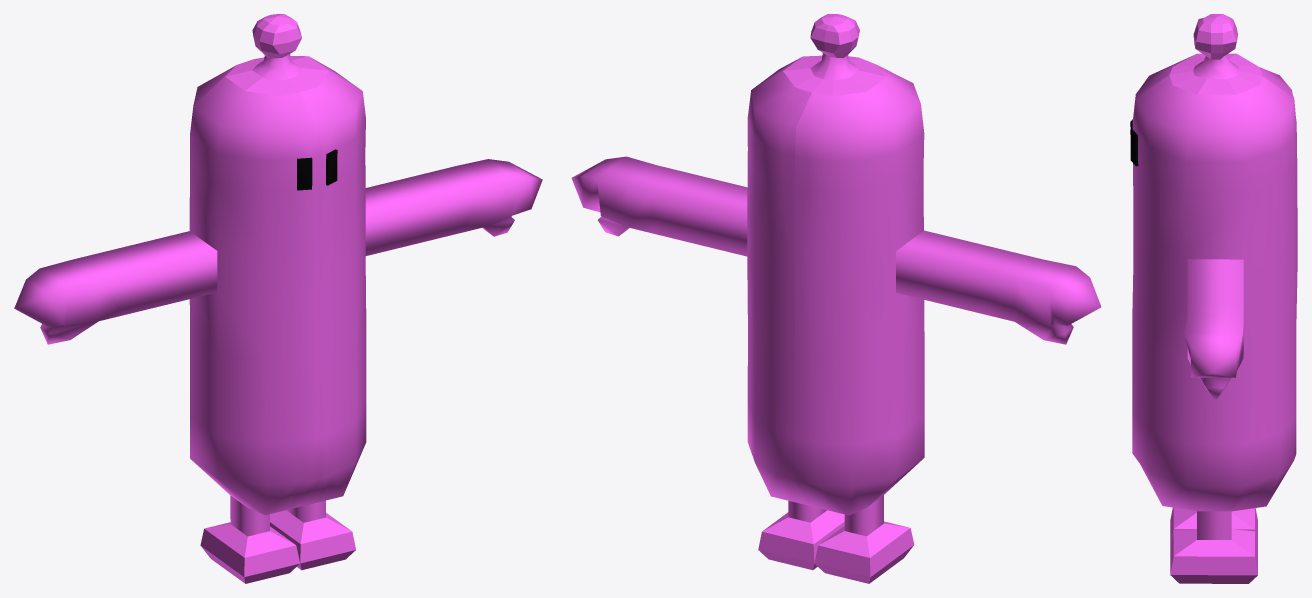
Rendered from Personagem_1_semturbo.FBX.
The picture shows the model from 3 angles, left to right: view 1: azimuth 30°, elevation 25°; view 2: azimuth 150°, elevation 25°; view 3: azimuth 270°, elevation 25°; orthographic projection.
Parts seen in each view (by area): view 1: Tronco; view 2: Tronco; view 3: Tronco.
Part boxes in pixels (<box>): Tronco: <box>14,14,542,583</box>; Tronco: <box>571,14,1101,583</box>; Tronco: <box>1130,14,1297,583</box>.
Bounding box in the file's own units: 5.94 × 5.82 × 1.63.
